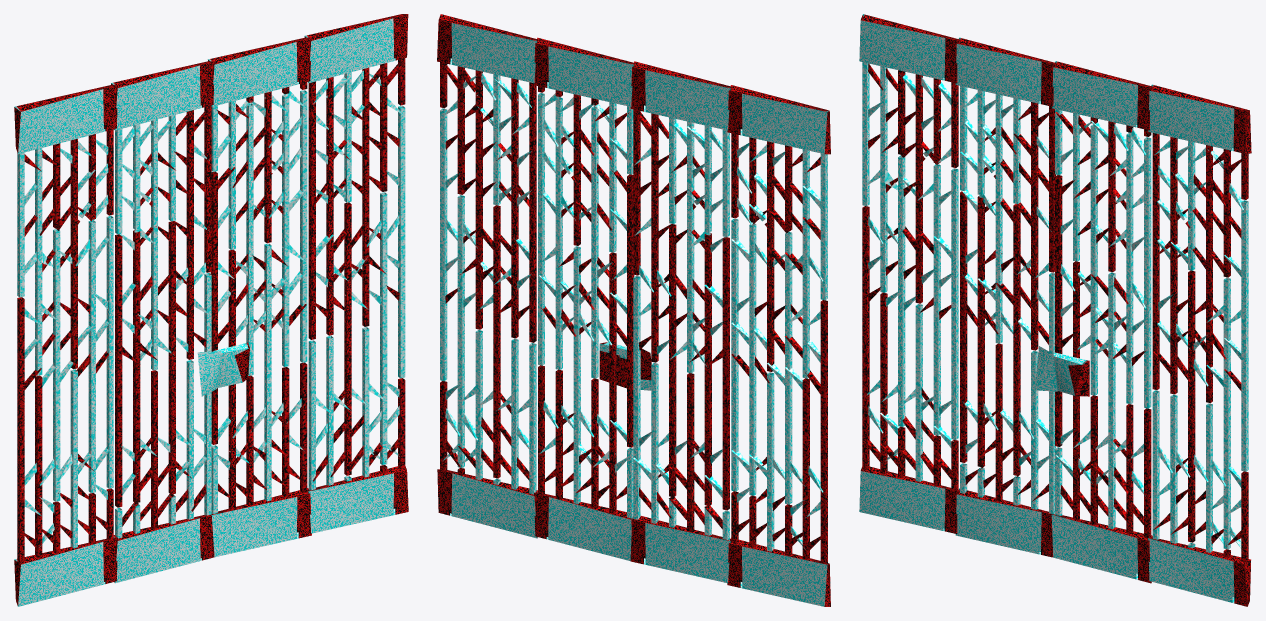
File: SM_Elevator_Gate_HJS.fbx
3 views of the same model, side by side, from view 1: azimuth 30°, elevation 25°; view 2: azimuth 150°, elevation 25°; view 3: azimuth 330°, elevation 25° (orthographic).
Parts seen in each view (by area): view 1: SM_Elevator_Gate_HJS; view 2: SM_Elevator_Gate_HJS; view 3: SM_Elevator_Gate_HJS.
Part boxes in pixels (x1=…): SM_Elevator_Gate_HJS: x1=14, y1=14, x2=408, y2=606; SM_Elevator_Gate_HJS: x1=437, y1=14, x2=830, y2=606; SM_Elevator_Gate_HJS: x1=859, y1=14, x2=1251, y2=606.
Size of the model in its own units: 234 by 285 by 8.93.
